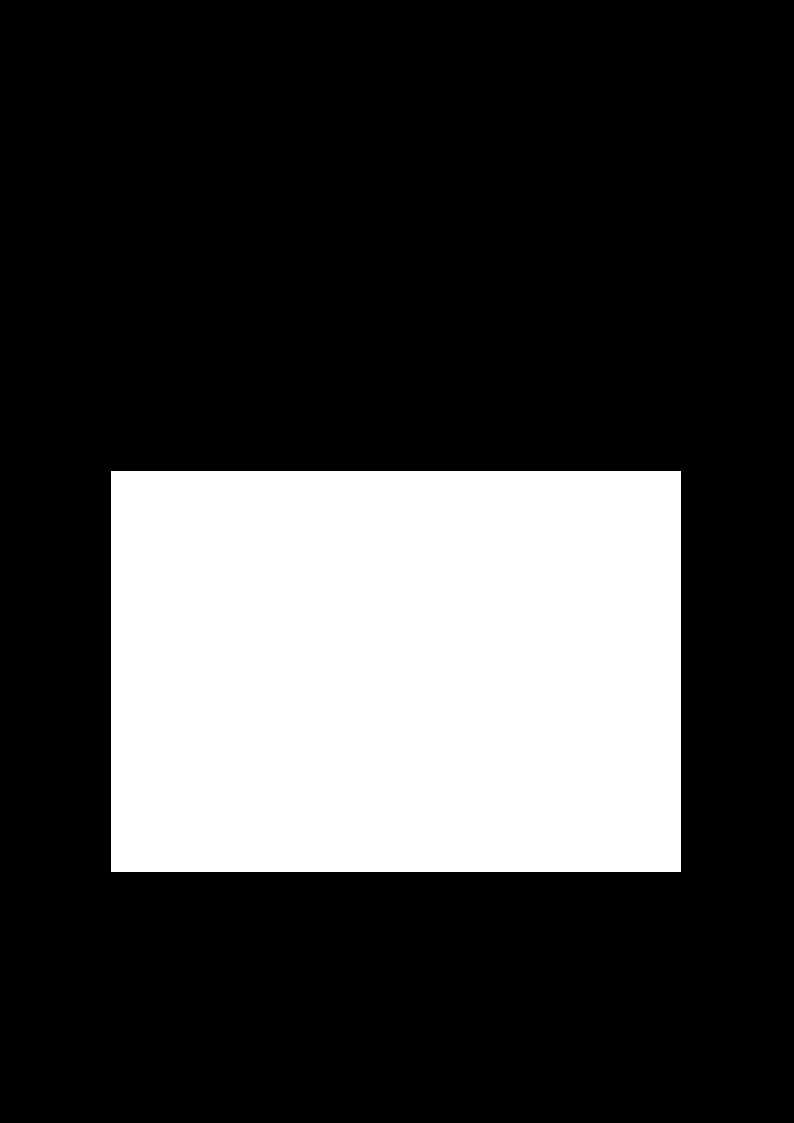table: (111, 471, 680, 871)
